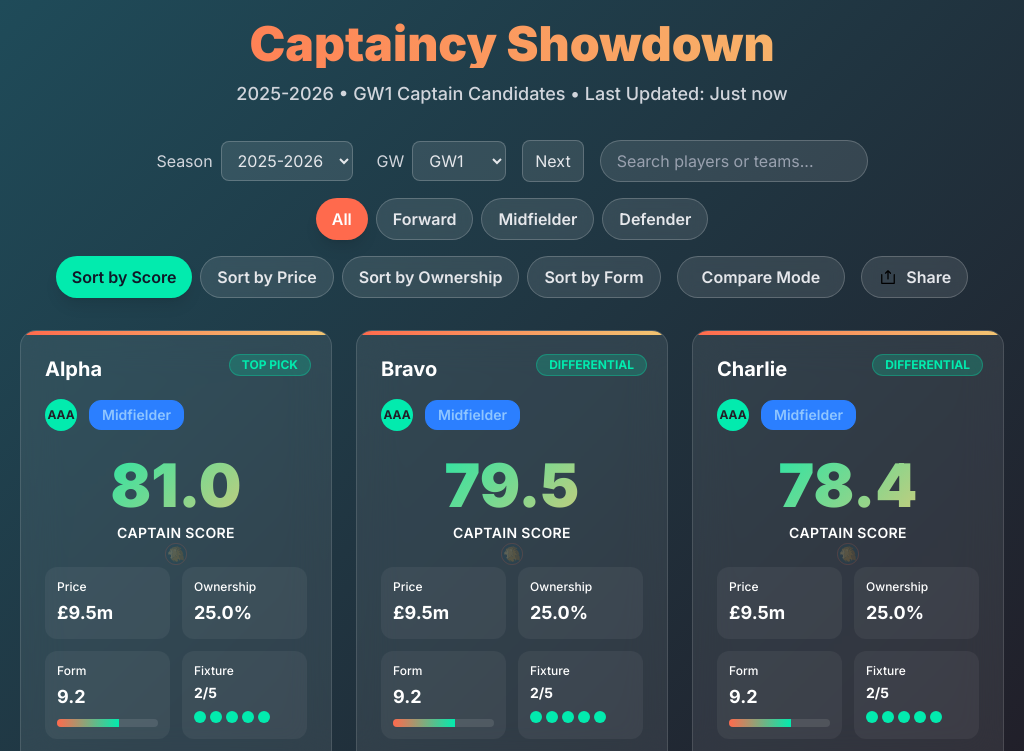
it: EnhancedApp compare flow › enables compare mode, selects players, and filters grid to selected (capped at 2)
Enable Compare Mode
Click the button "Compare Mode": (761, 277) x1=677 y1=256 x2=845 y2=298
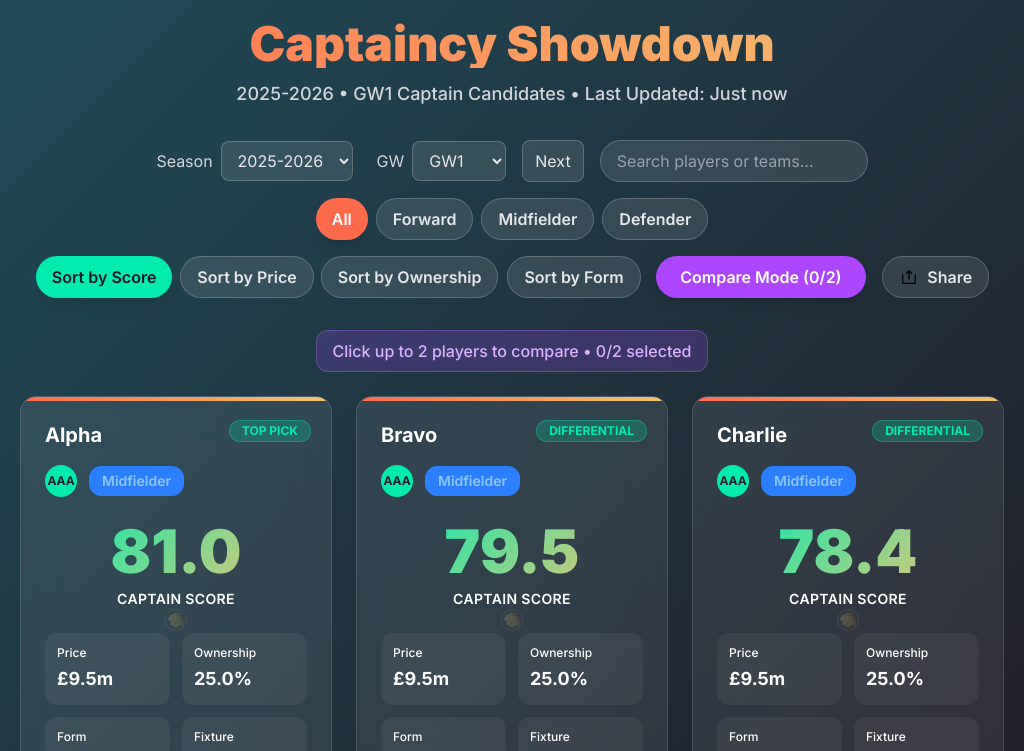
Check: the button "Compare Mode (0/2)" is shown, box x1=656 y1=256 x2=866 y2=298
Select two players
Click the heading "Alpha": (74, 435) x1=45 y1=423 x2=102 y2=447
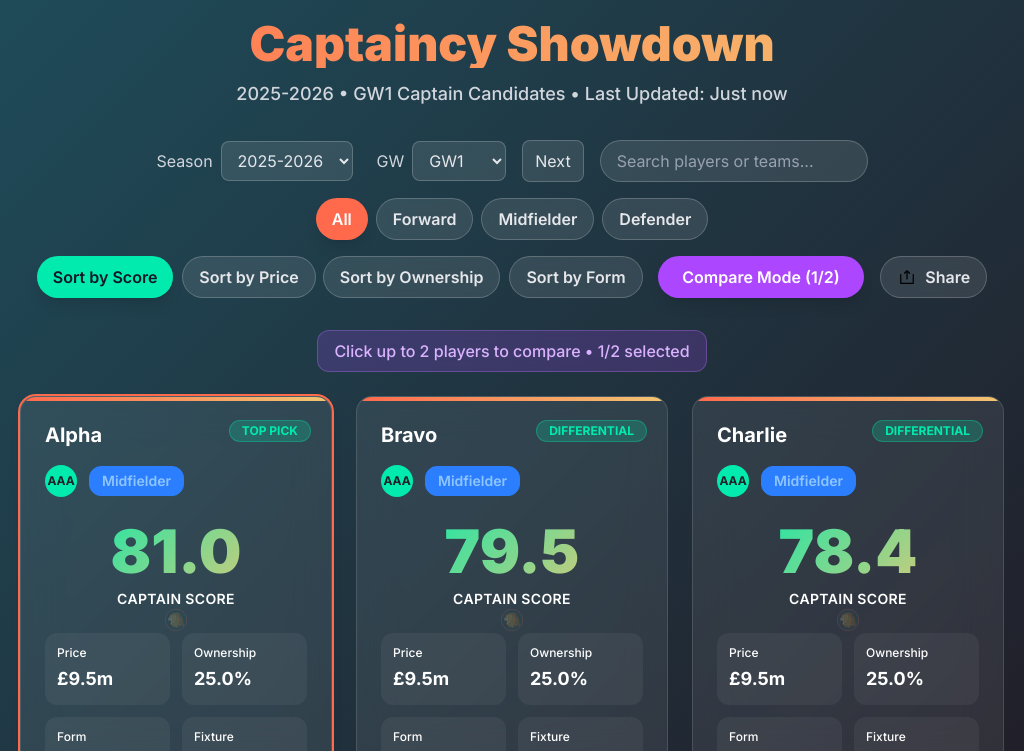
Click the heading "Bravo": (409, 435) x1=381 y1=423 x2=437 y2=447
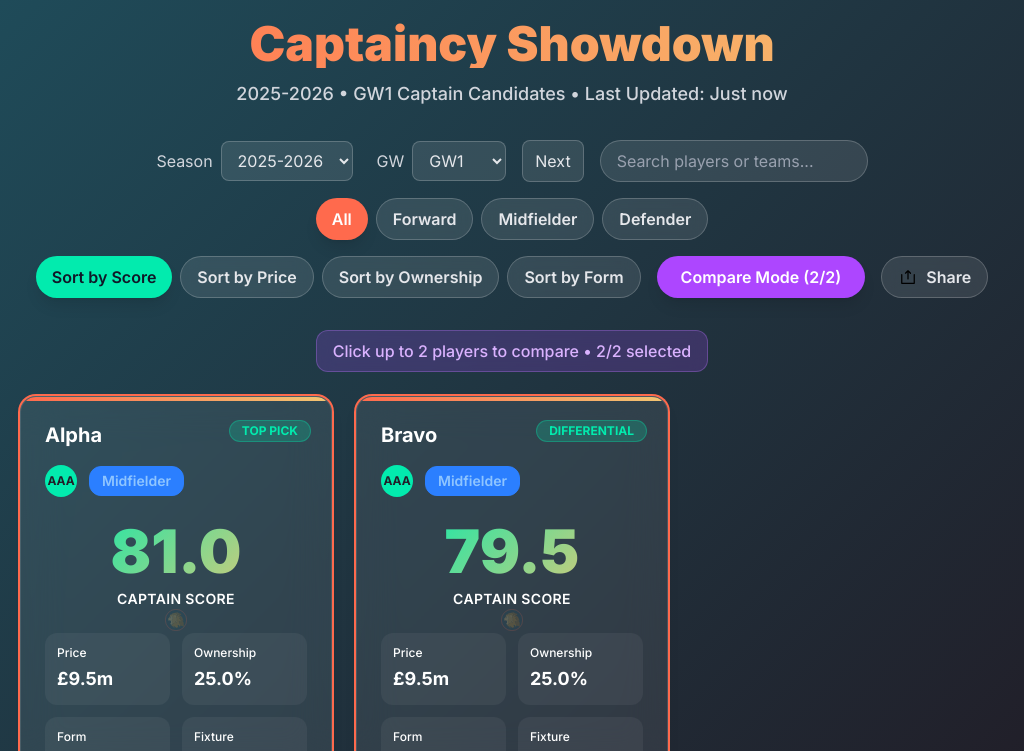
Check: the heading "Alpha" is shown, box x1=45 y1=423 x2=102 y2=447
Check: the button "Charlie" is gone
Check: the text "Click up to 2 players to compare • 2/2 selected" is shown, box x1=333 y1=341 x2=691 y2=361
